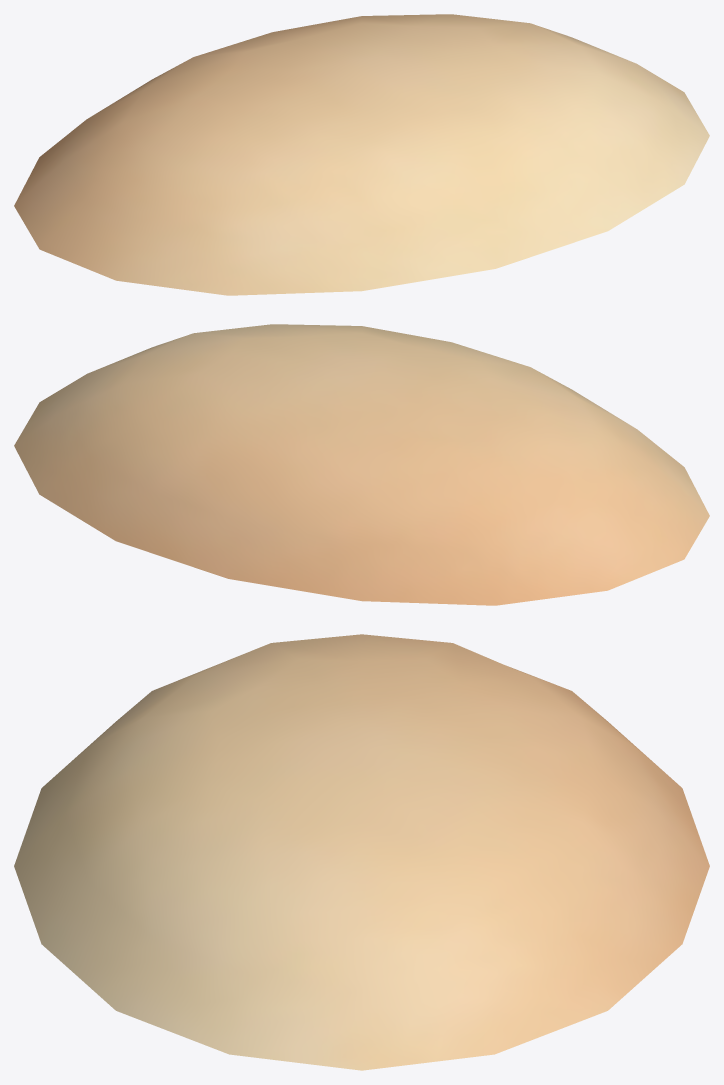
Rendered from 冰淇淋-道具-冰淇淋（大）_3.FBX.
The picture shows the model from 3 angles, top to bottom: view 1: azimuth 30°, elevation 25°; view 2: azimuth 150°, elevation 25°; view 3: azimuth 270°, elevation 25°; orthographic projection. The views are drawn at different scales.
Visible parts, largest first — view 1: 冰淇淋-道具-冰淇淋（大）_3; view 2: 冰淇淋-道具-冰淇淋（大）_3; view 3: 冰淇淋-道具-冰淇淋（大）_3.
Part boxes in pixels (left/top/right/bottom): 冰淇淋-道具-冰淇淋（大）_3: left=14, top=14, right=709, bottom=295; 冰淇淋-道具-冰淇淋（大）_3: left=14, top=324, right=709, bottom=605; 冰淇淋-道具-冰淇淋（大）_3: left=14, top=634, right=709, bottom=1070.
Size of the model in its own units: 1.13 by 0.178 by 0.8162.
